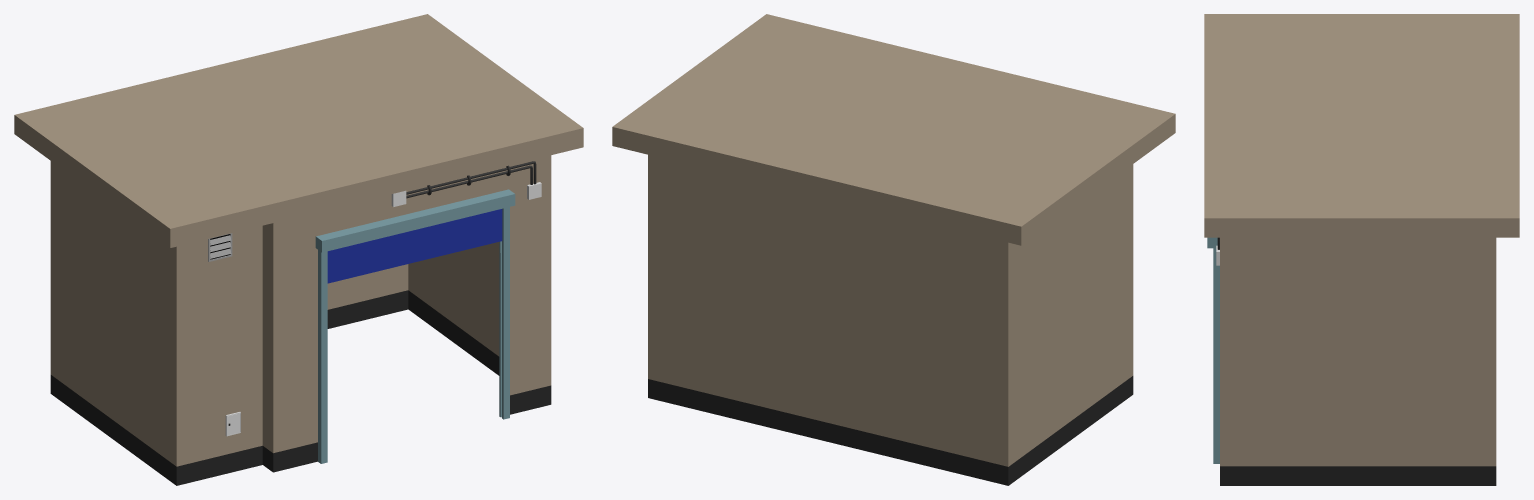
The model's file is Garage_middle.fbx.
The picture shows the model from 3 angles, left to right: view 1: azimuth 30°, elevation 25°; view 2: azimuth 150°, elevation 25°; view 3: azimuth 270°, elevation 25°; orthographic projection. The views are drawn at different scales.
Parts seen in each view (by area): view 1: pCube9; view 2: pCube9; view 3: pCube9.
Part boxes in pixels (x1,y1,x2,y2): pCube9: (14,14,583,485); pCube9: (612,14,1175,485); pCube9: (1204,14,1519,485).
Size of the model in its own units: 1135 by 725 by 741.
